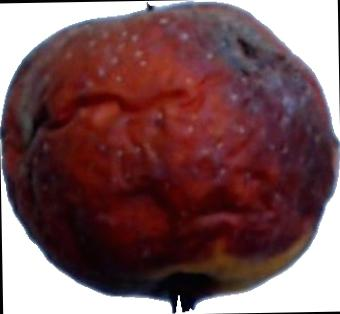Apple Overripe: (0, 0, 340, 306)
